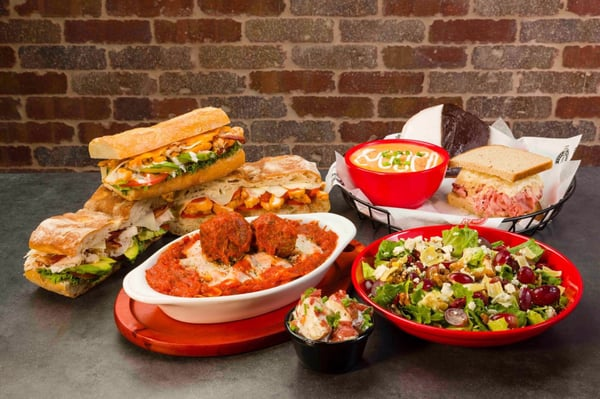soup: (23, 106, 244, 299), (24, 180, 158, 299), (87, 107, 247, 200), (446, 144, 554, 219)
sushi: (350, 223, 583, 349), (123, 210, 358, 326), (285, 287, 376, 374), (342, 137, 450, 210)
